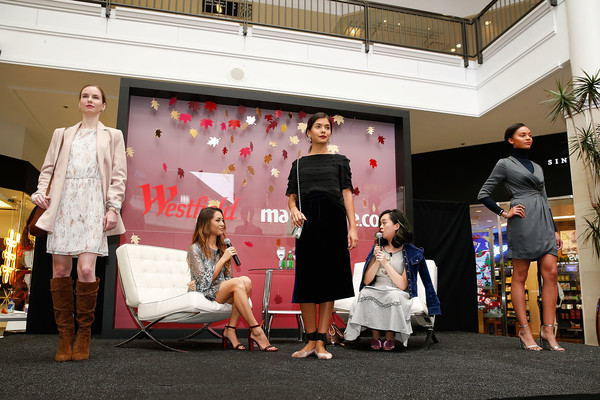Person: (30, 84, 130, 363), (477, 121, 565, 352), (285, 113, 359, 359), (185, 206, 283, 354), (342, 208, 443, 351)
